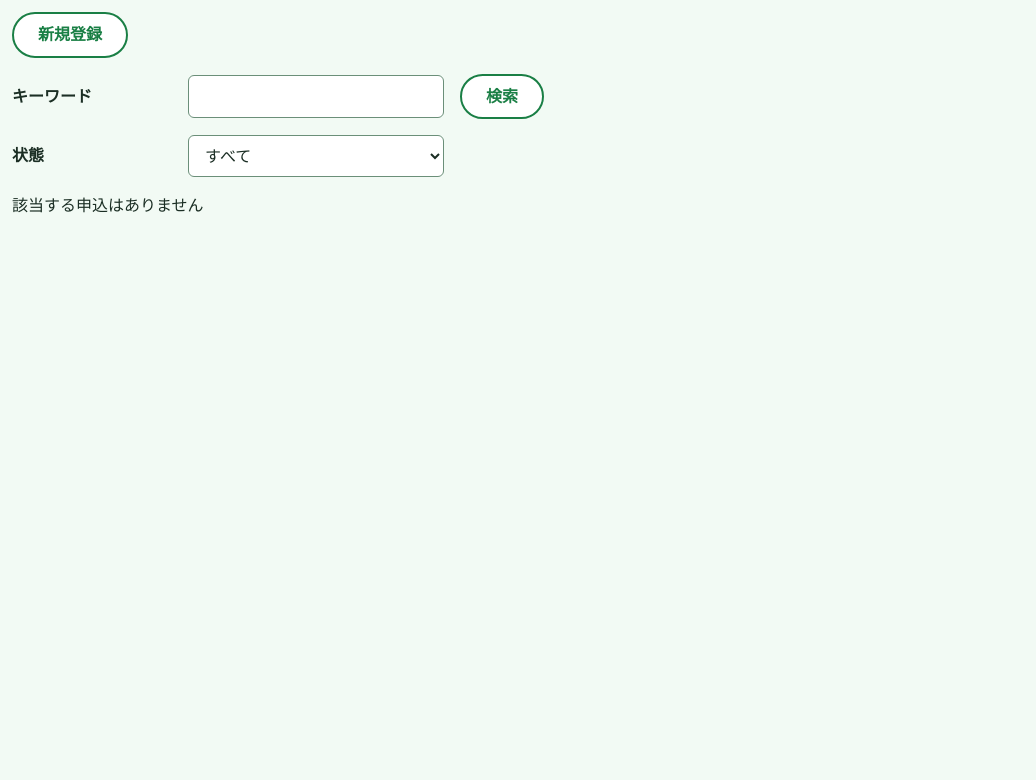
Scenario: 登録が成功すると、その申込の詳細が出る
Click the button "新規登録".
click(70, 35)  # box [12,12,128,58]
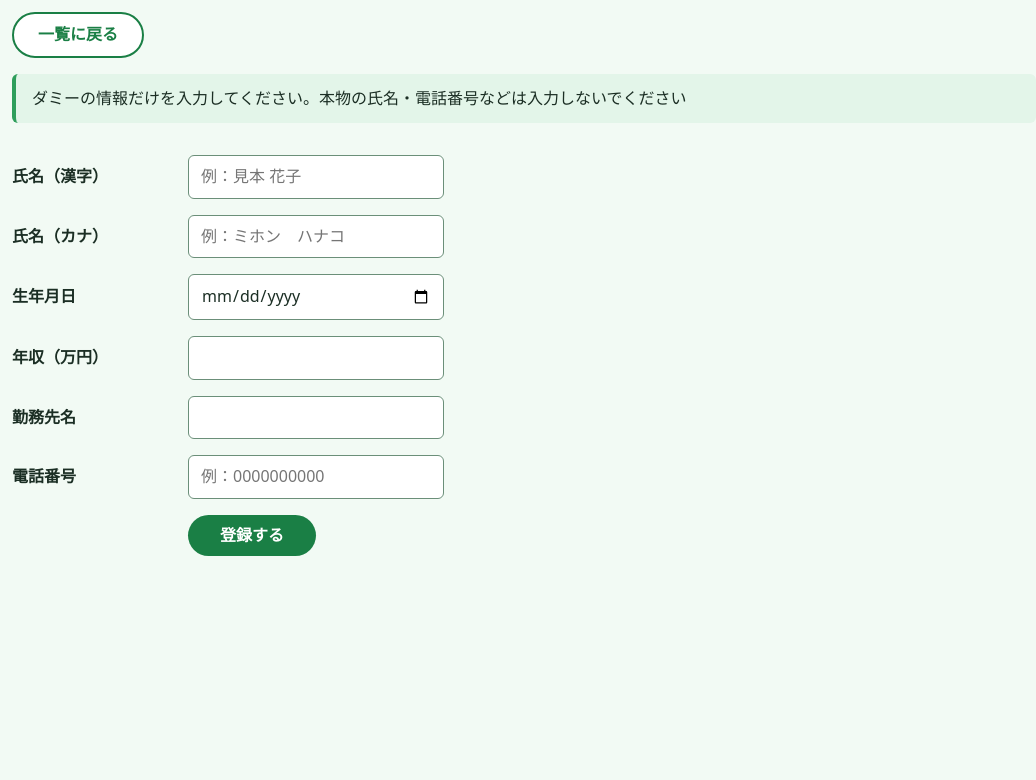
Click the button "登録する".
click(252, 536)  # box [188,515,316,556]
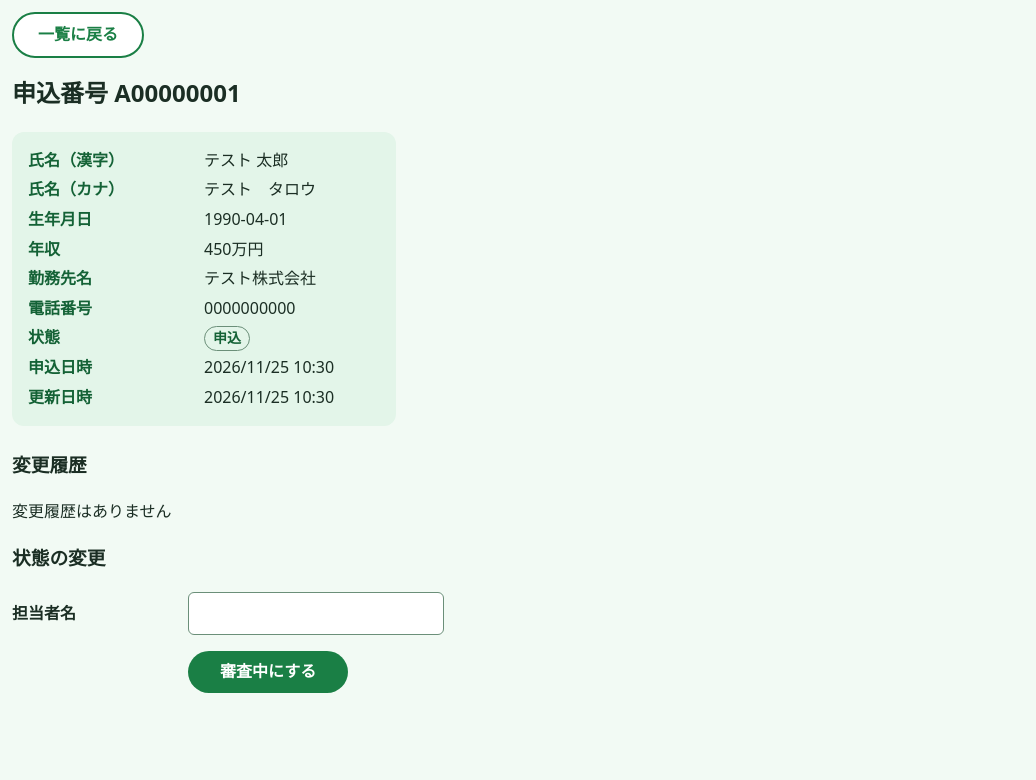
Expected: the heading "申込番号 A00000001" is shown, [12,76,241,109]
Expected: the button "登録する" is gone
